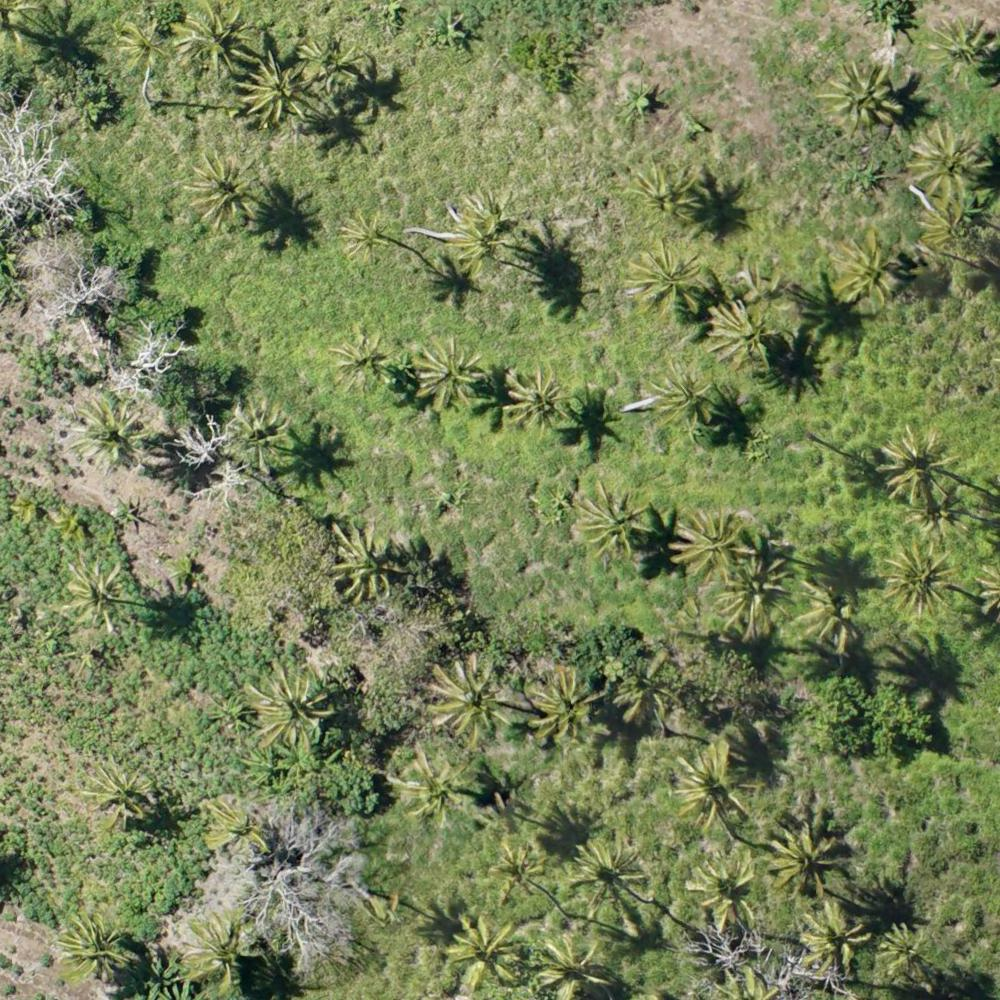Palm: (247, 660, 332, 748), (669, 741, 757, 826), (428, 656, 511, 746), (392, 741, 479, 823), (182, 910, 265, 992), (882, 425, 964, 507), (181, 155, 266, 232), (909, 119, 988, 201), (529, 664, 601, 748), (881, 542, 956, 622), (443, 911, 524, 985), (54, 913, 138, 984), (171, 5, 252, 78), (632, 242, 701, 326), (688, 856, 764, 932), (824, 60, 904, 132), (571, 841, 651, 913), (720, 558, 793, 636), (628, 156, 704, 229), (333, 521, 402, 600), (831, 234, 905, 307), (412, 341, 486, 414), (70, 396, 145, 468), (59, 559, 124, 642), (239, 50, 309, 127), (711, 296, 785, 368), (79, 756, 157, 824), (669, 512, 748, 578), (537, 934, 616, 1000), (771, 826, 846, 895), (580, 488, 652, 559), (796, 578, 866, 651), (928, 16, 1000, 86), (798, 899, 868, 971), (614, 657, 683, 728), (504, 362, 572, 432), (202, 794, 273, 861), (229, 397, 291, 473), (649, 367, 714, 431), (332, 329, 399, 391), (449, 212, 512, 273), (303, 30, 365, 91), (112, 17, 173, 75), (917, 199, 974, 256), (337, 205, 393, 262), (881, 917, 936, 974), (488, 845, 541, 902)
